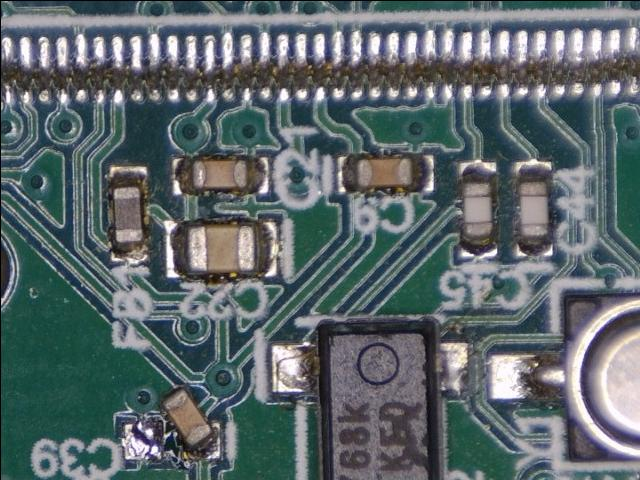Incorrect_installation: (122, 385, 222, 461)
